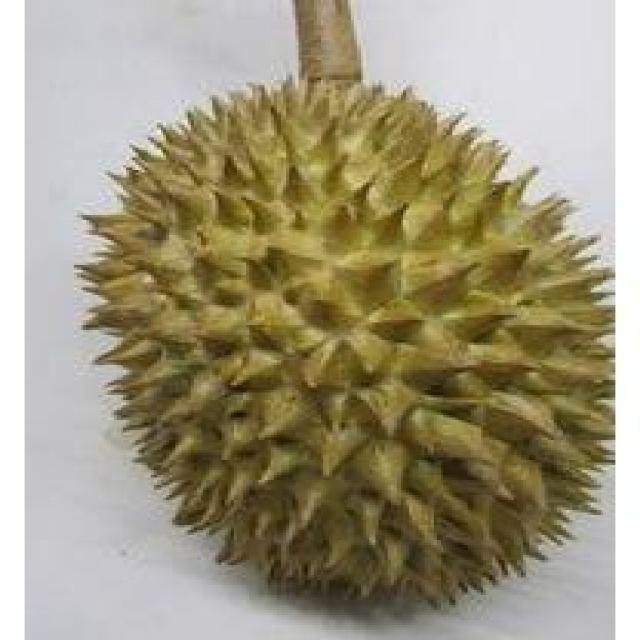fruit: (80, 258, 455, 638), (277, 275, 634, 640)
